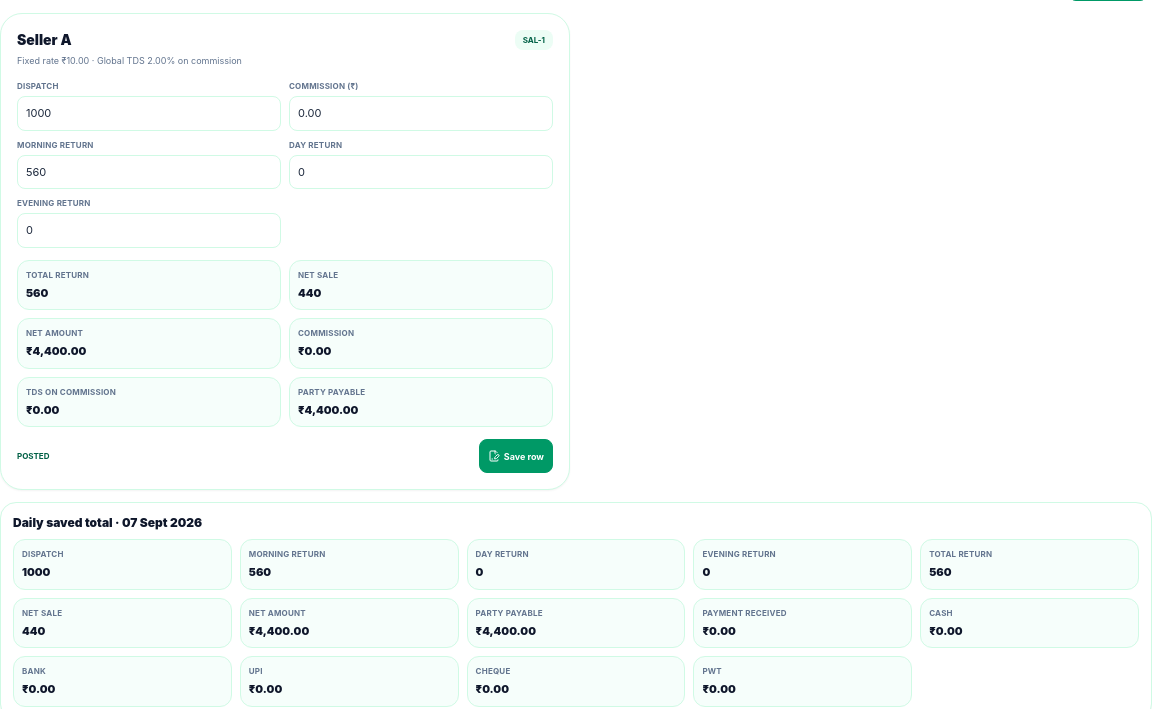
DailySellerEntry local-first projection › does not mark an old-date row errored after the selected entry date changes
(page scrolled)
Click the button "Save row".
click(516, 456)  # box [479, 439, 553, 473]
(page scrolled)
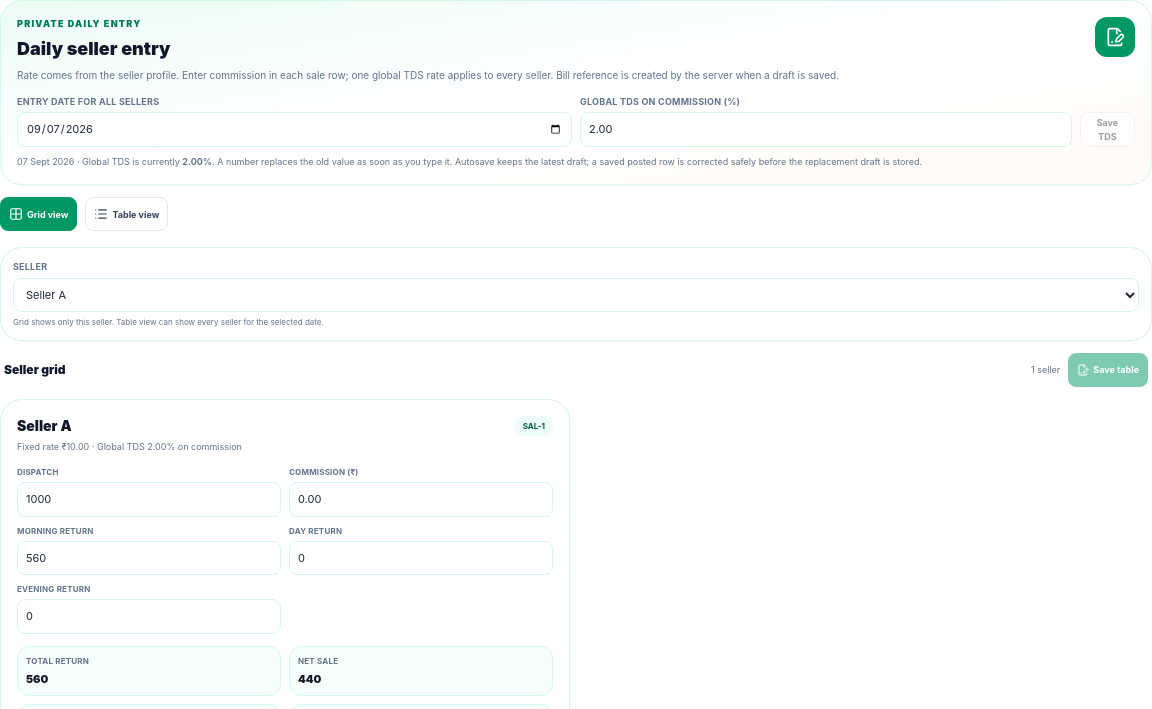
Type "2026-09-06" into the date field labelled "Entry date for all sellers".
click(294, 130); type("2026-09-06")  # box [17, 112, 572, 147]
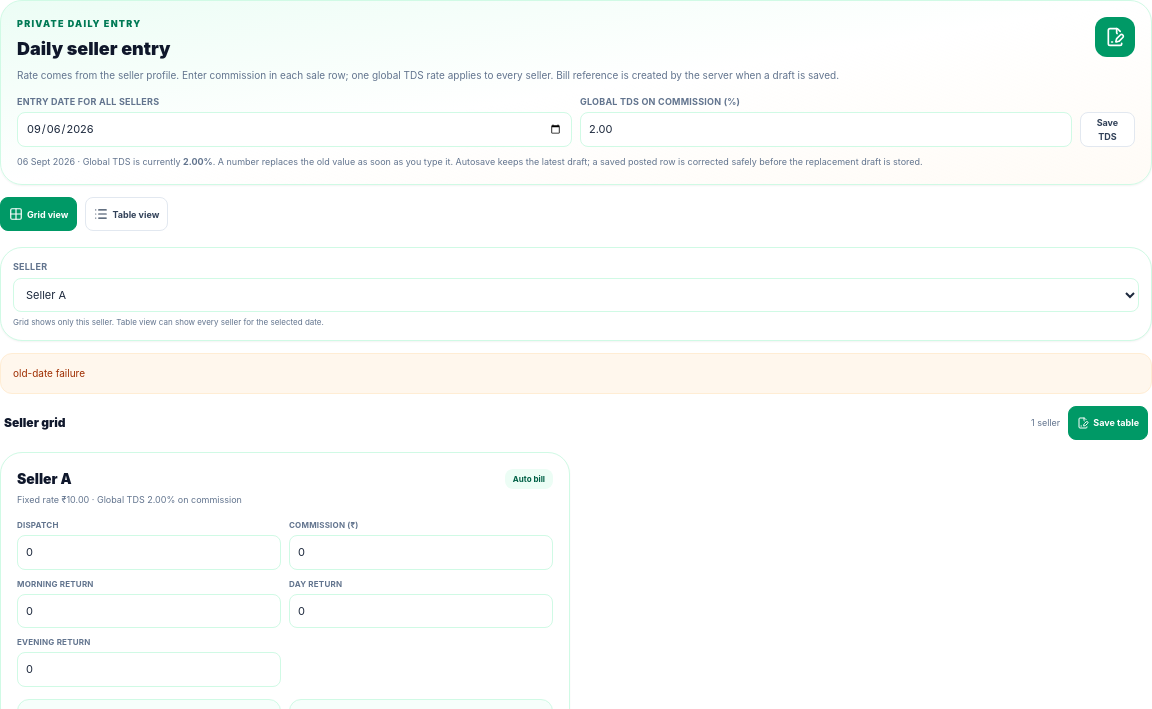
Now the text "old-date failure" is shown, box [0, 353, 1151, 394]
